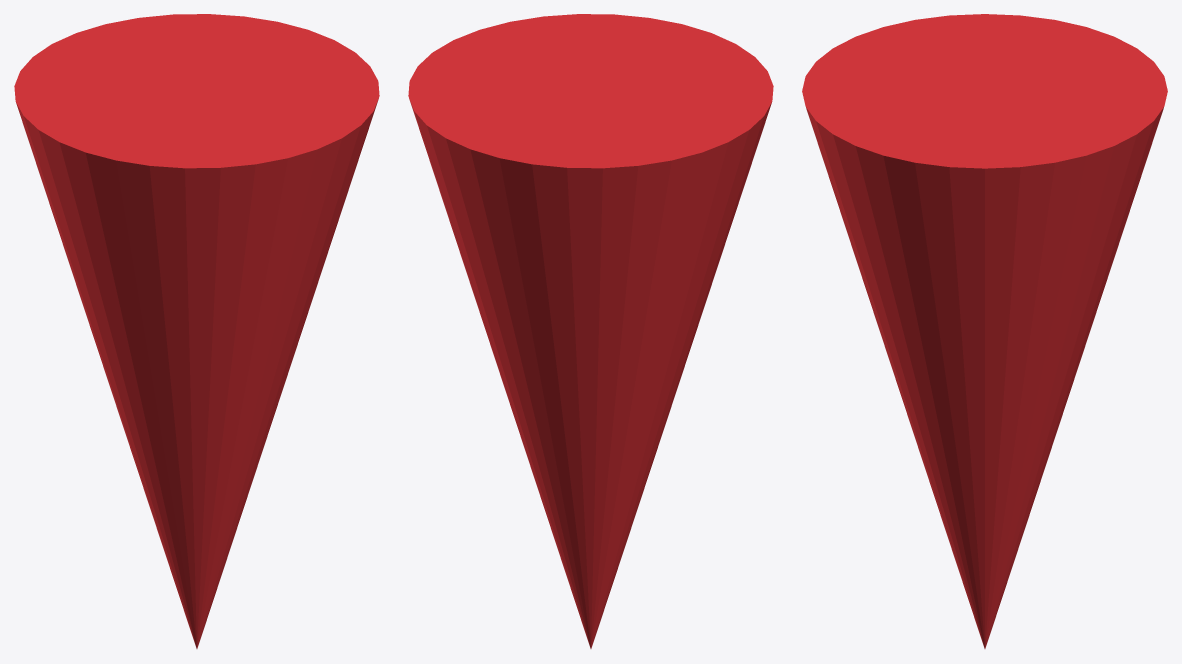
3 views of the same model, side by side, from view 1: azimuth 30°, elevation 25°; view 2: azimuth 150°, elevation 25°; view 3: azimuth 270°, elevation 25° (orthographic).
Visible parts, largest first — view 1: Cone; view 2: Cone; view 3: Cone.
Boxes of the visible parts, <box> form: Cone: <box>14,14,379,648</box>; Cone: <box>408,14,773,648</box>; Cone: <box>802,14,1167,648</box>.
Bounding box in the file's own units: 200 × 337 × 200.
